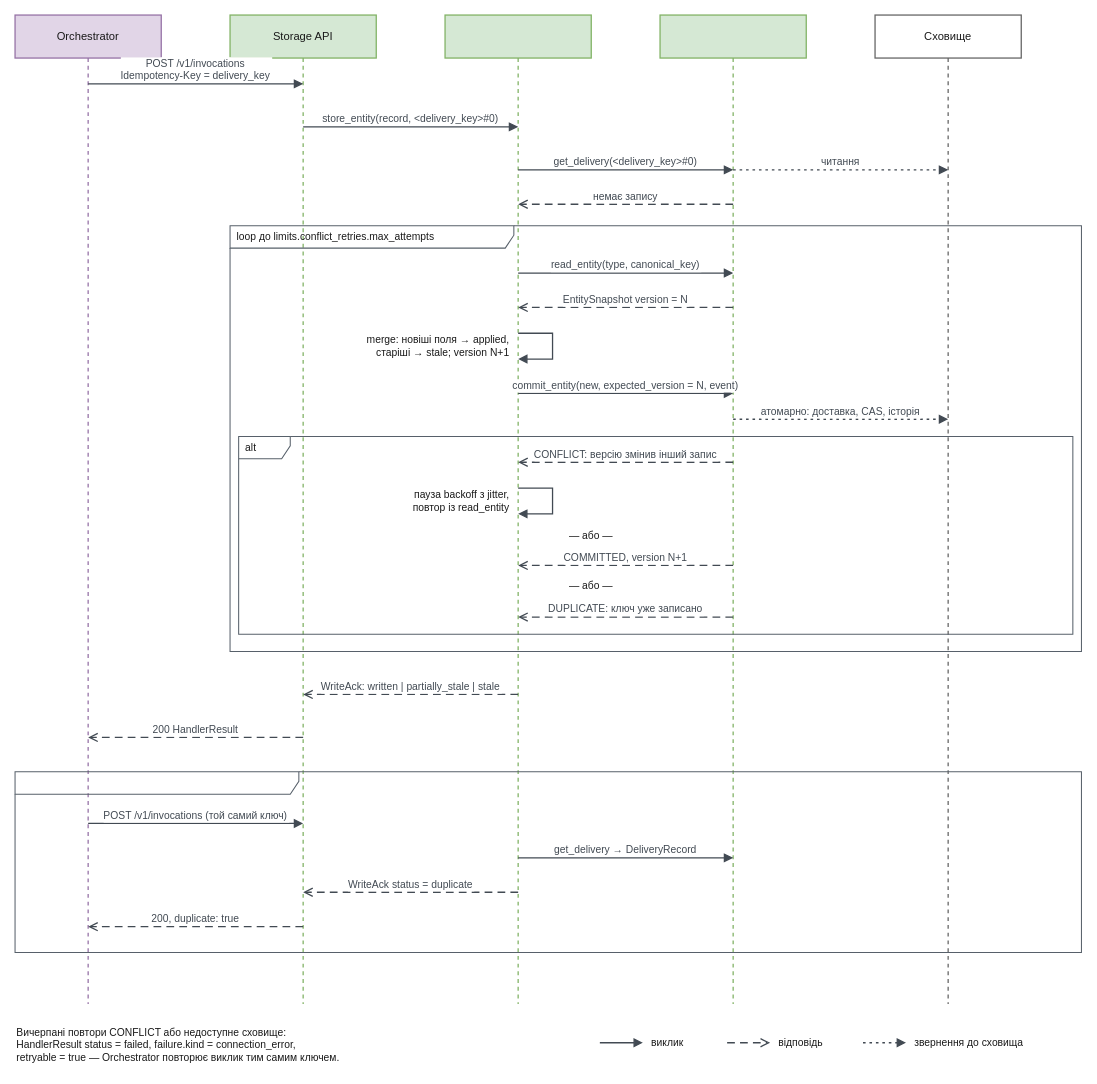
This 1097x1084 diagram has some shape labels left out. The box of each missing label's shape, as (x1, y1, x2, y2) in pixels:
StorageEngine: (444, 14, 592, 1004)
Адаптер: (659, 14, 807, 1004)
Повторна доставка того самого delivery_key: (14, 771, 1082, 953)
